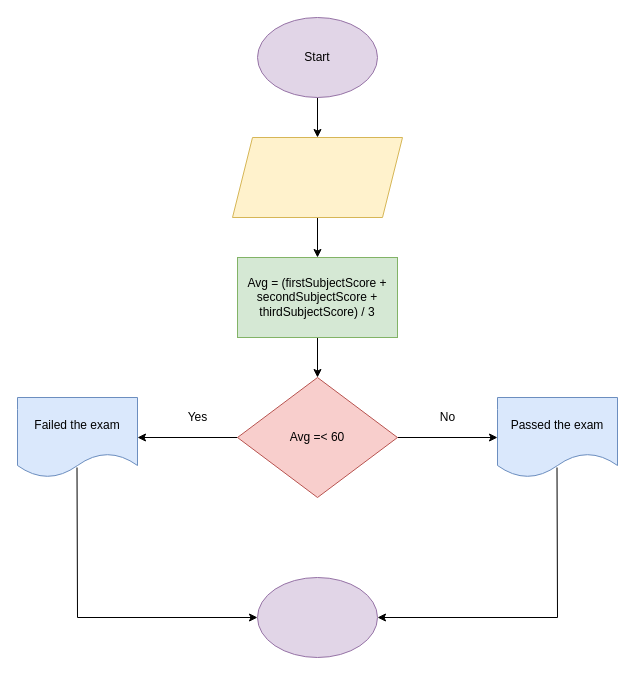
Some shapes in this 635 by 675 pixel diagram are drawn without their labels. The shapes that lost their labels are listed below. From the top down, each one's centre as x and y in pixels, then its label:
At pixel 317 177: "firstSubjectScore, secondSubjectScore, thirdSubjectScore".
At pixel 317 617: "End".
